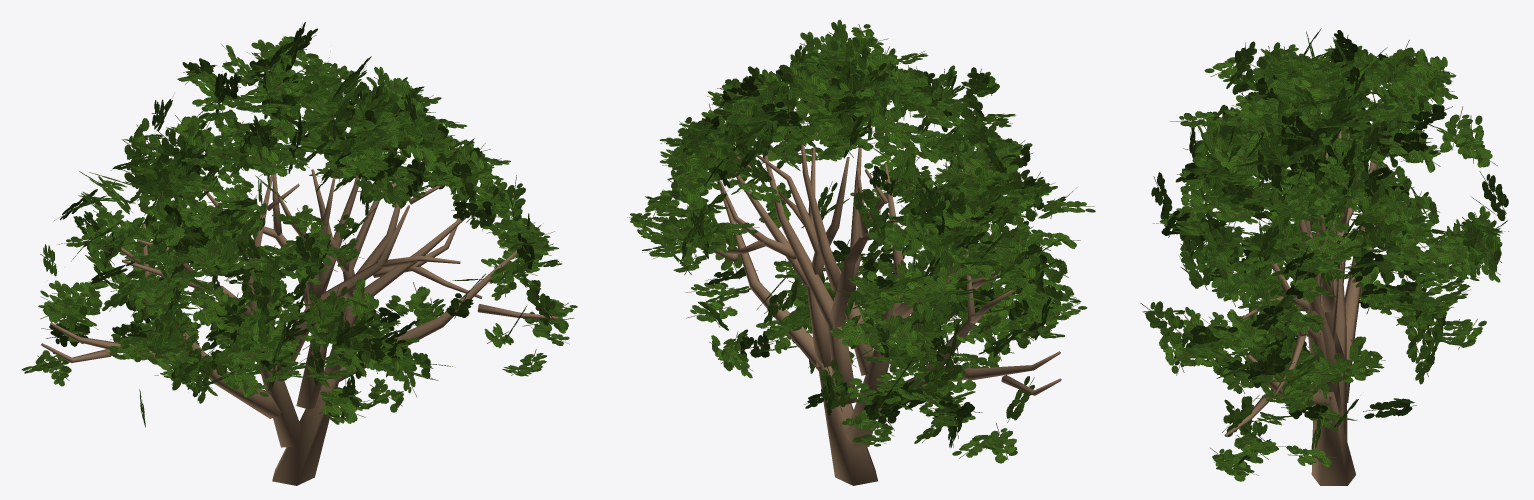
Rendered from near.glb.
3 views of the same model, side by side, from view 1: azimuth 30°, elevation 25°; view 2: azimuth 150°, elevation 25°; view 3: azimuth 270°, elevation 25° (orthographic).
Visible parts, largest first — view 1: foliage, bark; view 2: foliage, bark; view 3: foliage, bark.
Boxes of the visible parts, <box> form: foliage: <box>21,22,577,427</box>; bark: <box>41,164,558,485</box>; foliage: <box>627,20,1095,463</box>; bark: <box>714,144,1061,485</box>; foliage: <box>1140,28,1508,481</box>; bark: <box>1224,129,1381,485</box>.
Size of the model in its own units: 25.68 by 23.21 by 17.58.
Materials: 2 (1 with a texture image).
